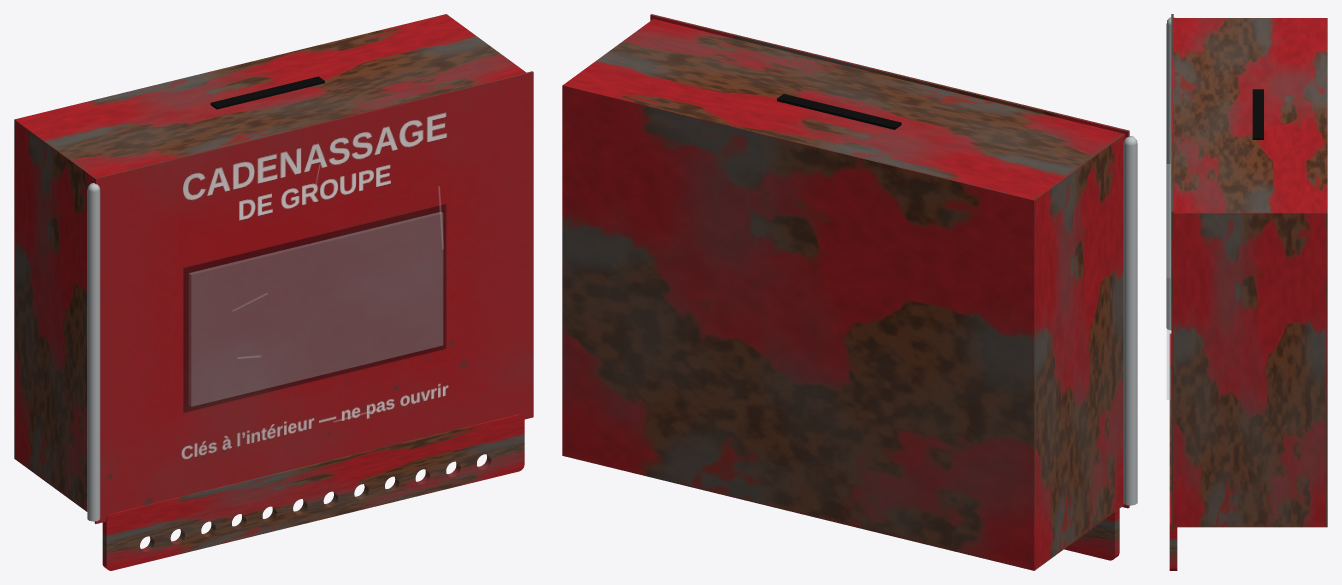
The model's file is SM_Boite_Cadenassage.glb.
The picture shows the model from 3 angles, left to right: view 1: azimuth 30°, elevation 25°; view 2: azimuth 150°, elevation 25°; view 3: azimuth 270°, elevation 25°; orthographic projection. The views are drawn at different scales.
Visible parts, largest first — view 1: SM_Boite_Cadenassage; view 2: SM_Boite_Cadenassage; view 3: SM_Boite_Cadenassage.
Part boxes in pixels (x1=…): SM_Boite_Cadenassage: x1=14, y1=14, x2=533, y2=570; SM_Boite_Cadenassage: x1=562, y1=14, x2=1137, y2=570; SM_Boite_Cadenassage: x1=1166, y1=14, x2=1327, y2=570.
Size of the model in its own units: 0.3136 by 0.2662 by 0.1064.
5 materials, 2 textured.
